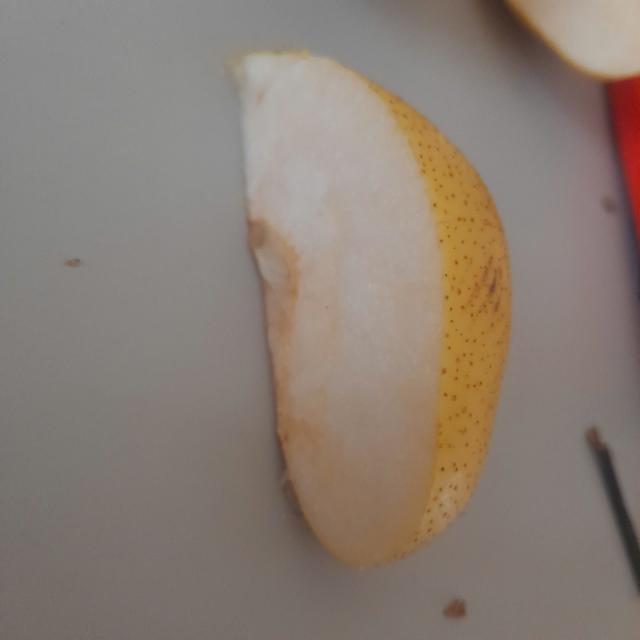Le: (230, 34, 536, 582)
